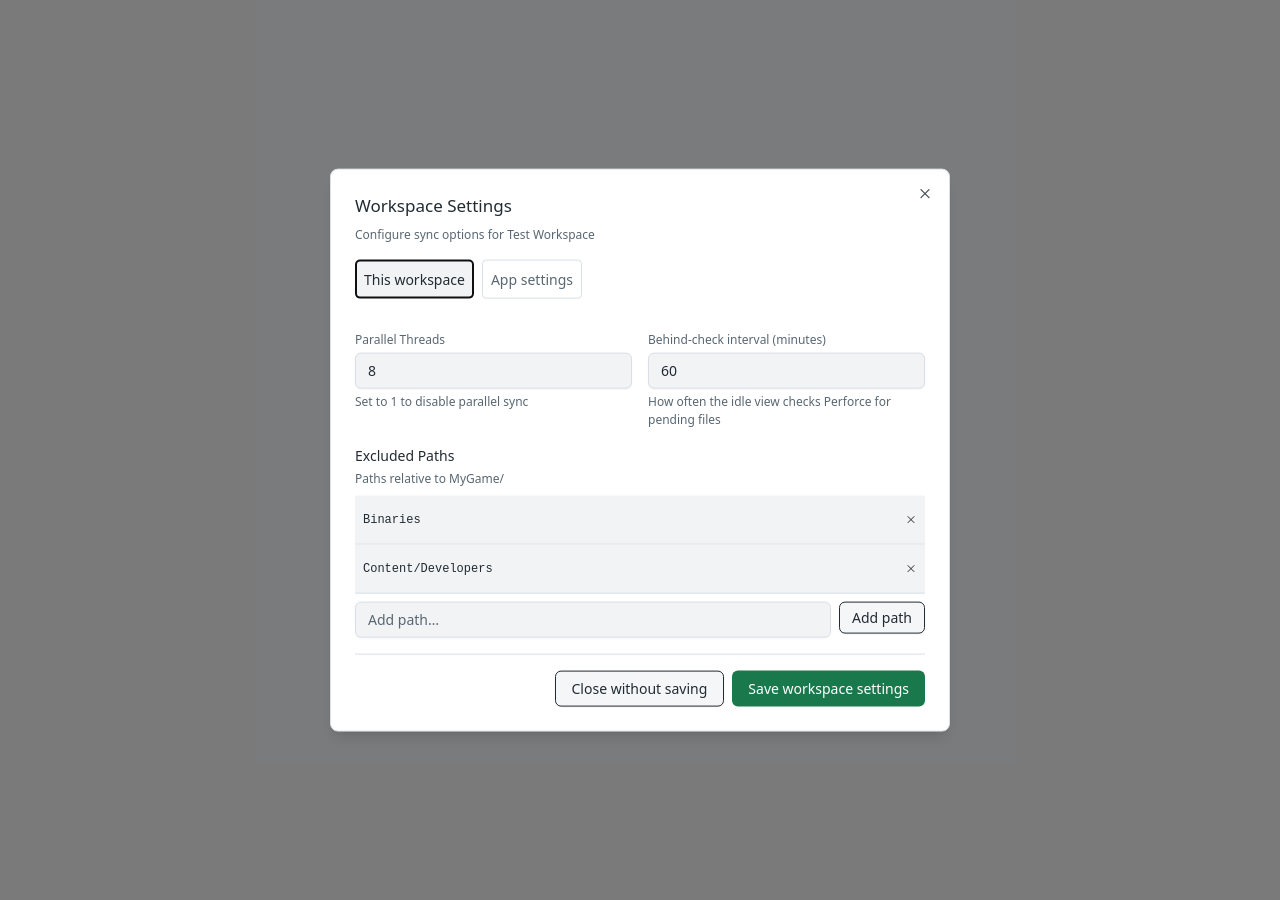
SettingsDialog — workspace/app scopes › tab switch leaves thread and exclusion drafts in place and does not restart loaders
The image size is (1280, 900).
Replace the text in the number field labelled "Parallel Threads" with "12" at (494, 370), box [355, 352, 632, 388]
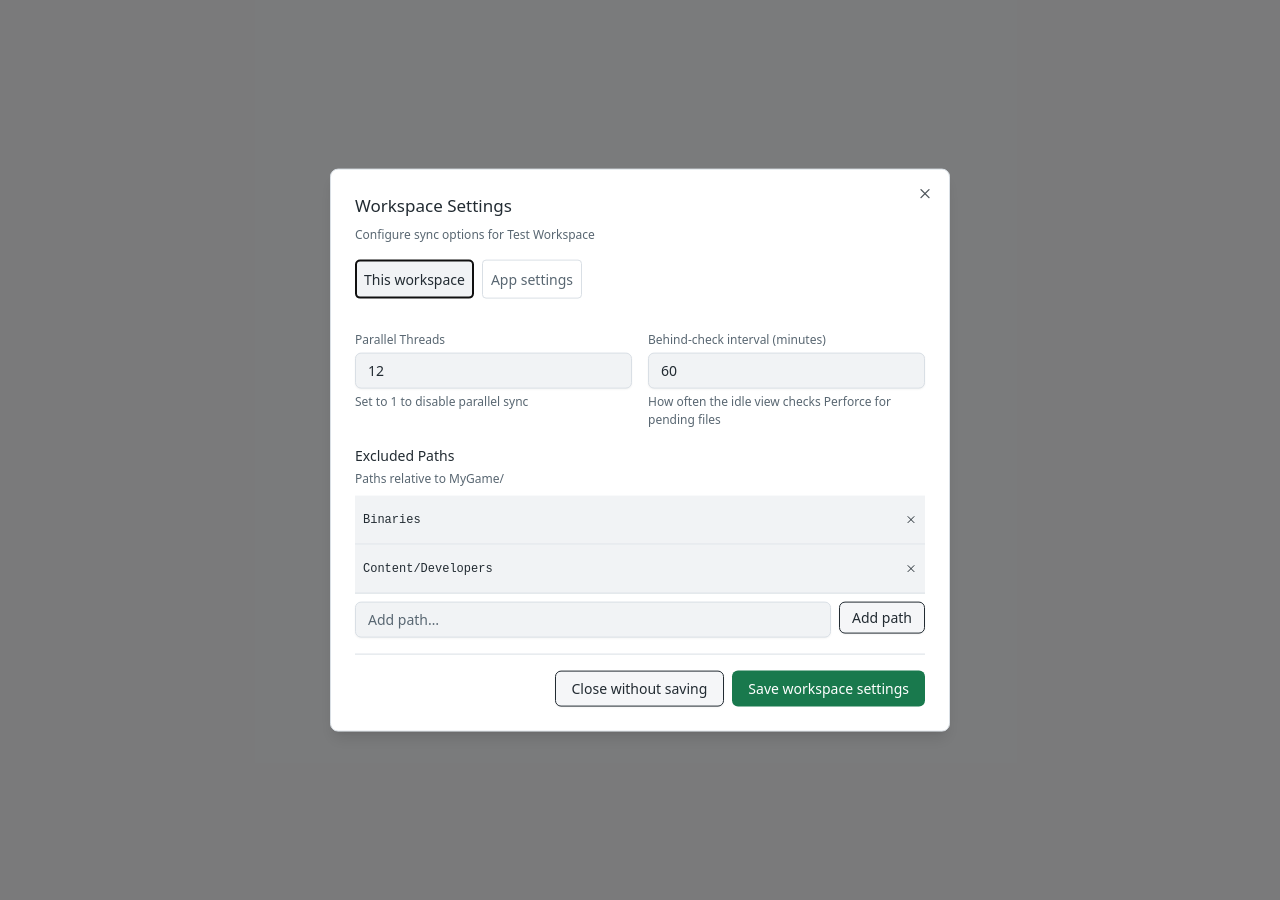
Type "ArtOffline" into the field with placeholder "Add path…".
click(593, 619); type("ArtOffline")  # box [355, 601, 831, 637]
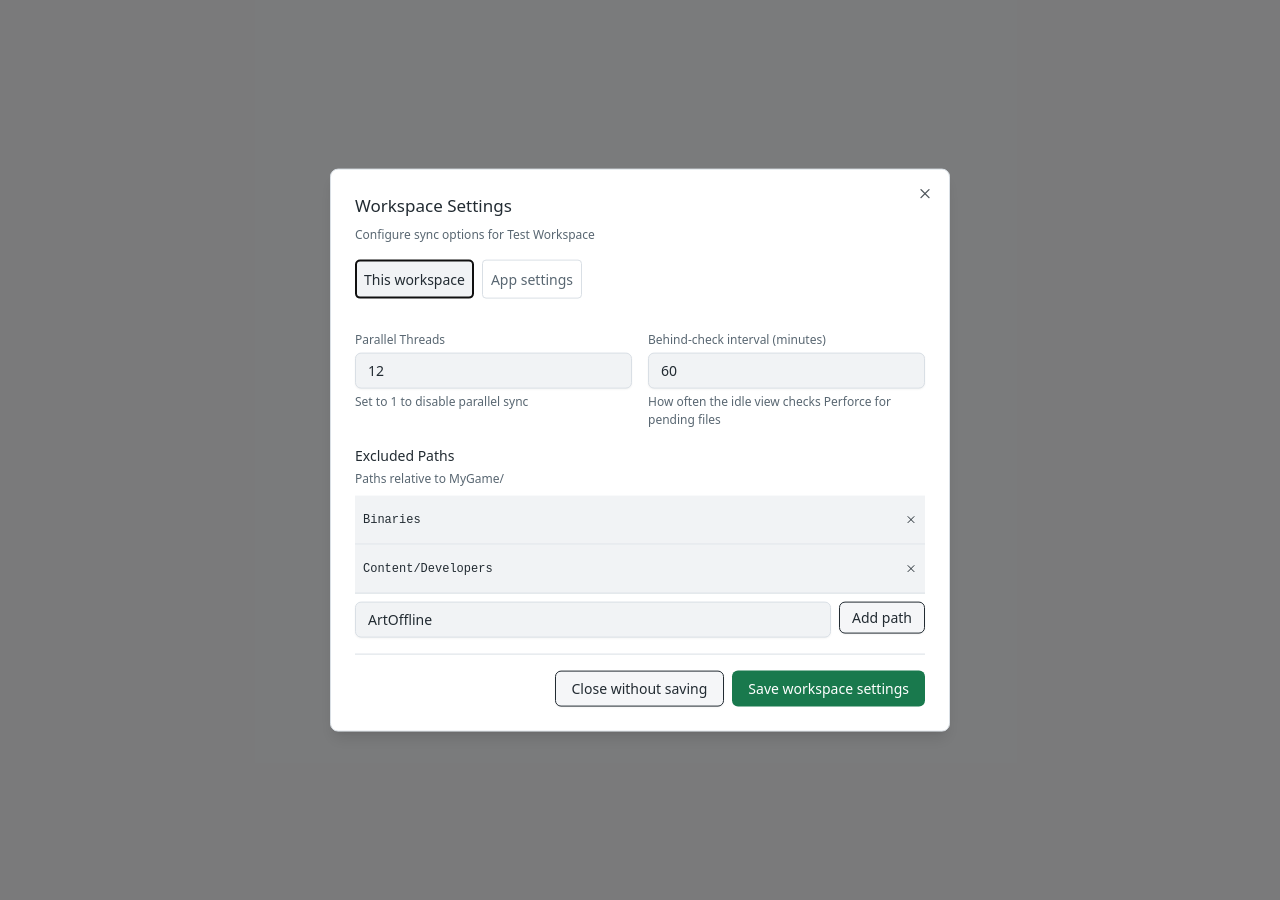
Press Enter in the field with placeholder "Add path…", box [355, 601, 831, 637]
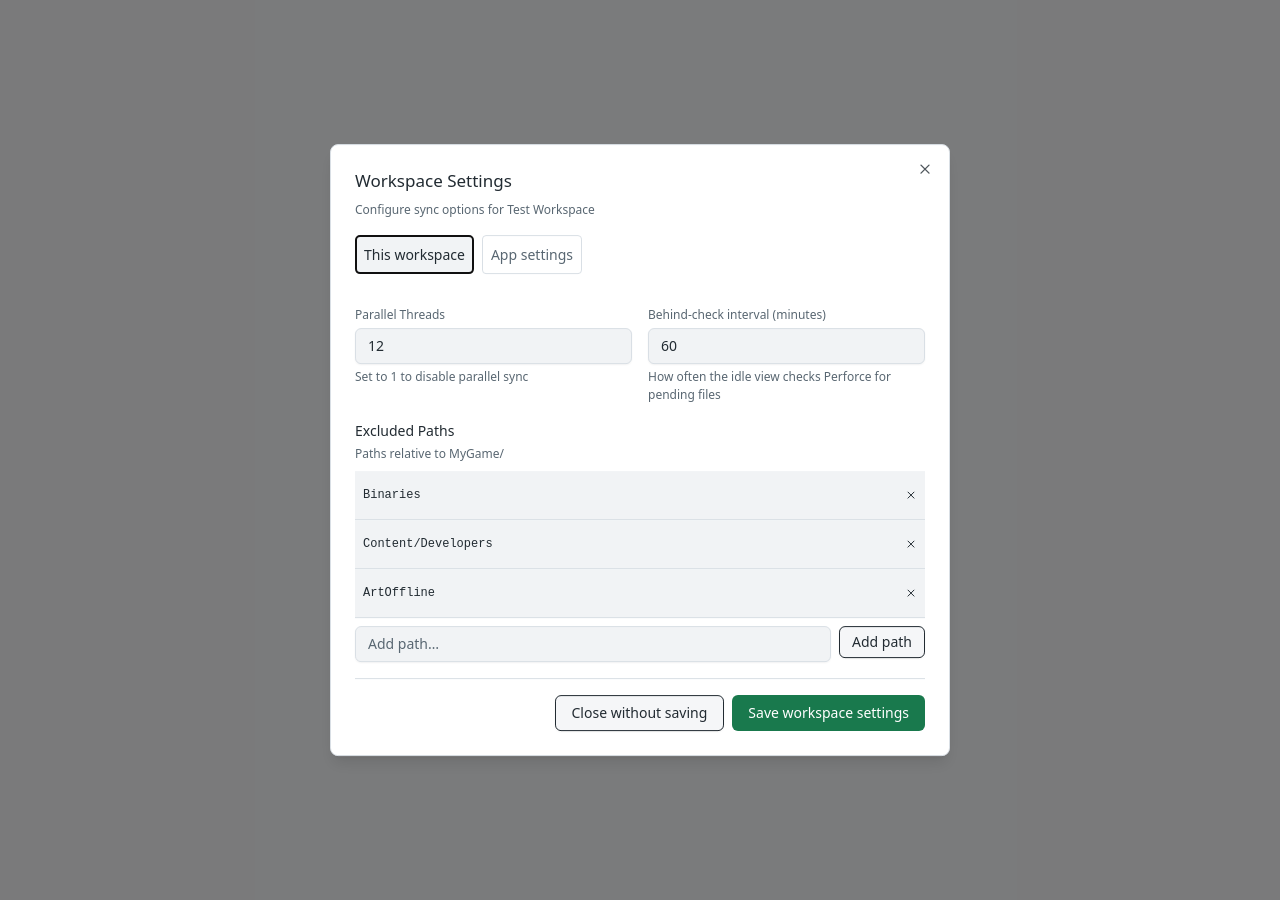
Expected: the text "ArtOffline" is shown, [363, 584, 435, 602]
Click the button "App settings".
click(532, 254)  # box [482, 235, 582, 274]
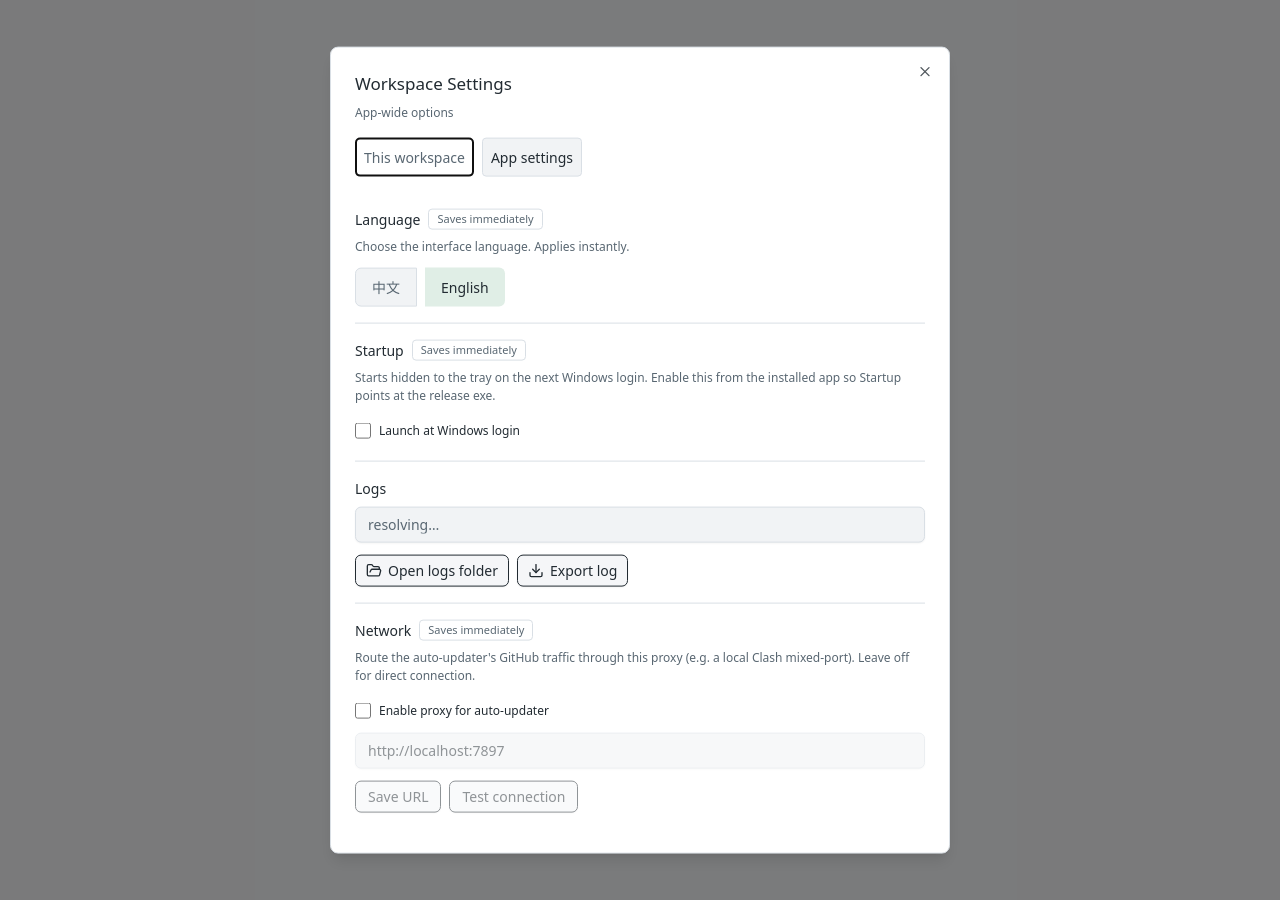
Expected: the button "App settings" is pressed, [482, 137, 582, 176]
Click the button "This workspace".
click(414, 157)  # box [355, 137, 474, 176]
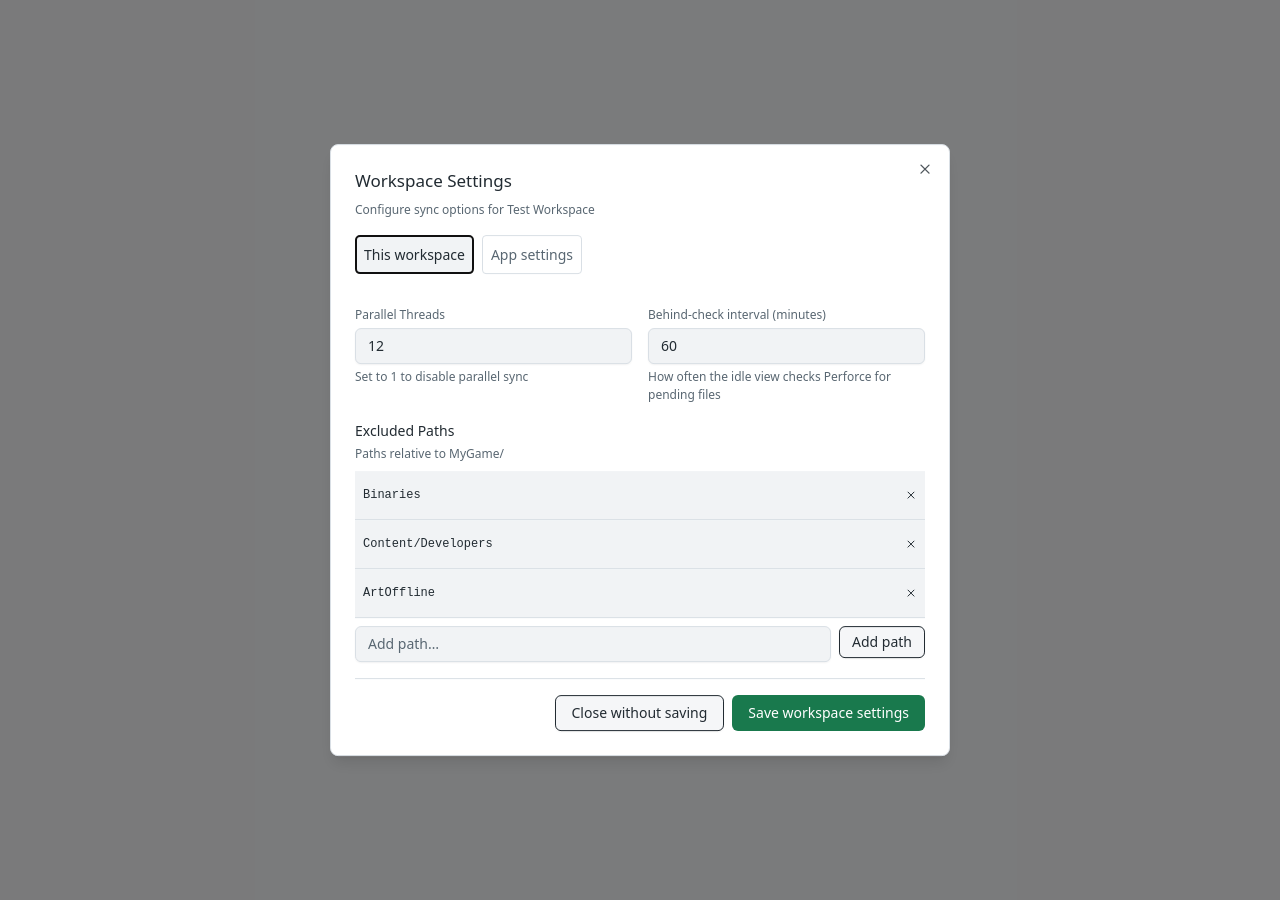
Expected: the text "Binaries" is shown, [363, 486, 421, 504]
Expected: the text "ArtOffline" is shown, [363, 584, 435, 602]
